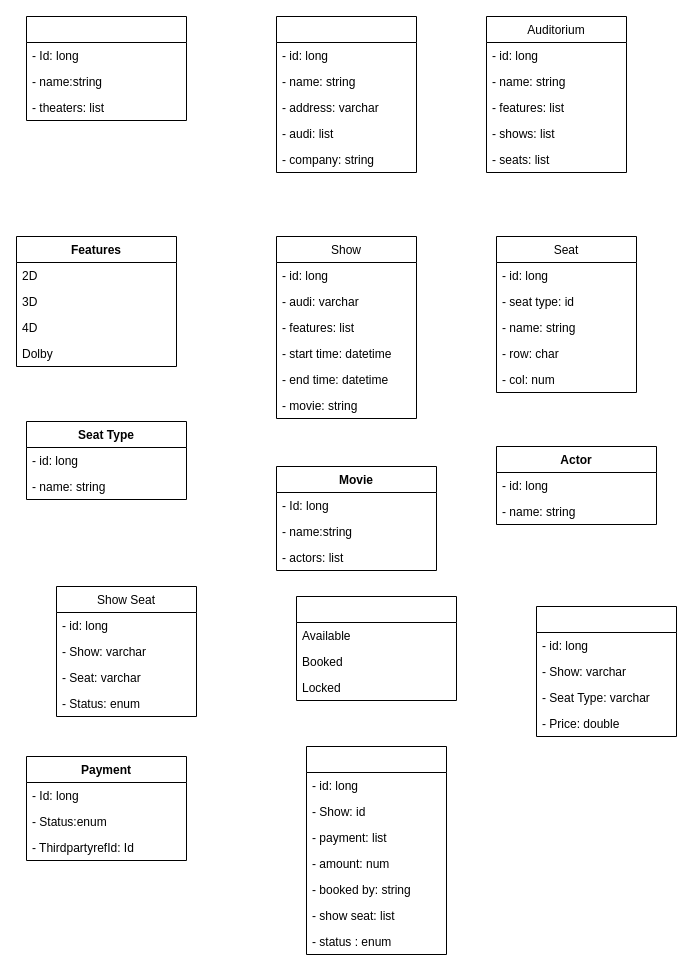
This 693x971 diagram has some shape labels left out. Each missing label, with the box of its shape:
City: (26, 16, 186, 120)
Show Seat Type: (536, 606, 676, 736)
Status: (296, 596, 456, 700)
Theater: (276, 16, 416, 172)
Ticket: (306, 746, 446, 954)
